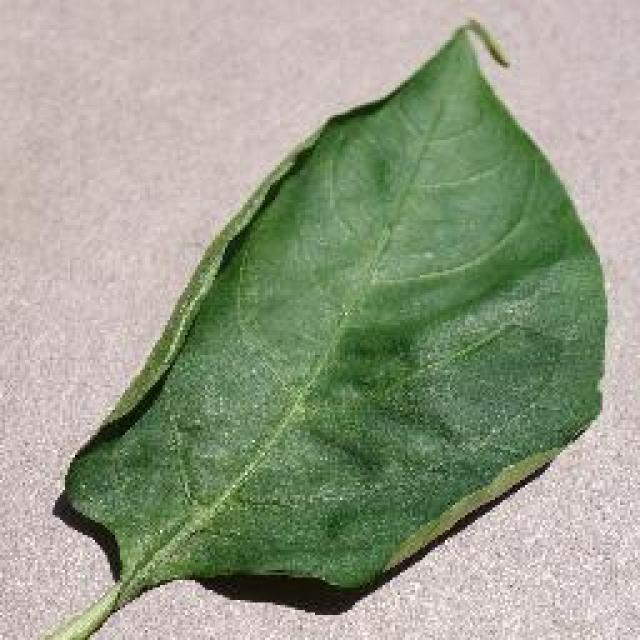Chilli_Healthy: (20, 15, 610, 637)
